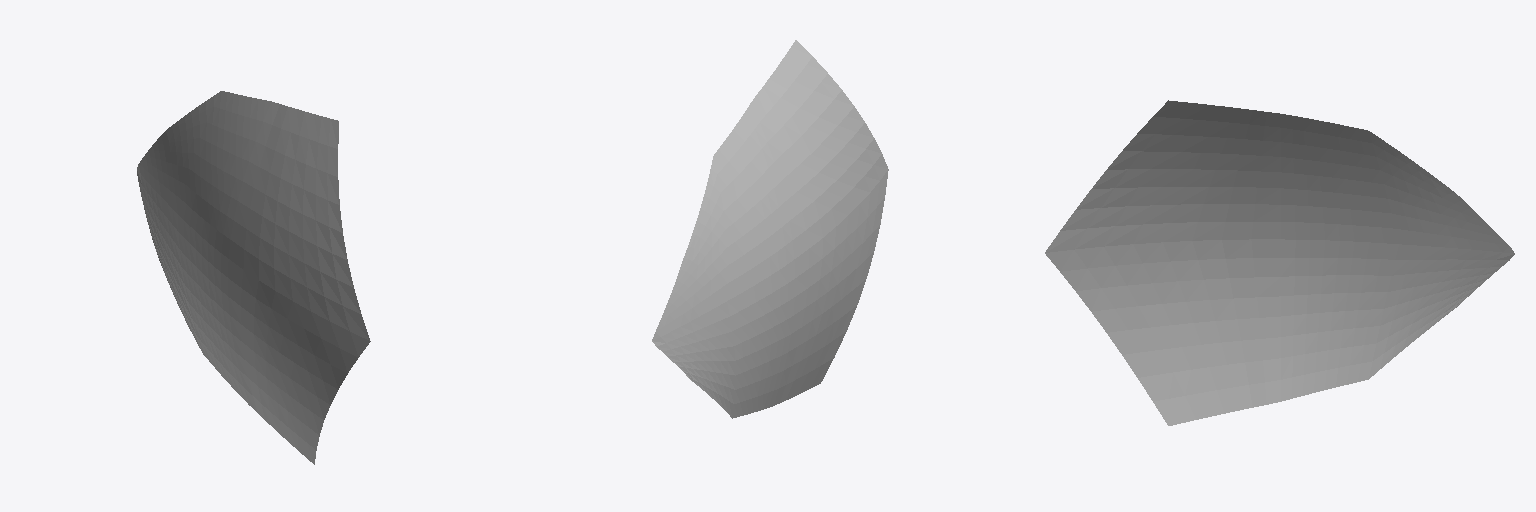
Rendered from Plane.003_HyruleShield_Base_mat_0.obj.
3 renders of one model, left to right at view 1: azimuth 30°, elevation 25°; view 2: azimuth 150°, elevation 25°; view 3: azimuth 270°, elevation 25°, orthographic.
Visible parts, largest first — view 1: Plane.003_HyruleShield_Base_mat_0; view 2: Plane.003_HyruleShield_Base_mat_0; view 3: Plane.003_HyruleShield_Base_mat_0.
Part boxes in pixels (x1,y1,x2,y2): Plane.003_HyruleShield_Base_mat_0: (137,91,370,464); Plane.003_HyruleShield_Base_mat_0: (652,40,888,418); Plane.003_HyruleShield_Base_mat_0: (1045,100,1514,425).
Size of the model in its own units: 0.0686 by 0.4 by 0.5049.